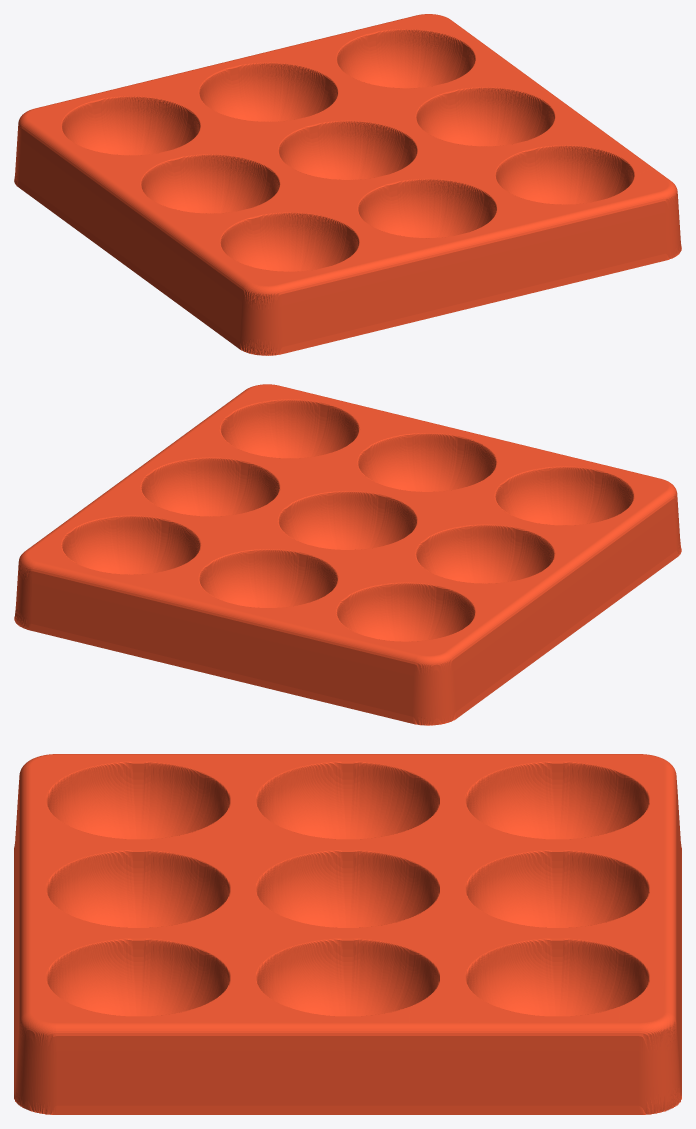
Rendered from mold.glb.
3 renders of one model, top to bottom at view 1: azimuth 30°, elevation 25°; view 2: azimuth 150°, elevation 25°; view 3: azimuth 270°, elevation 25°, orthographic. The views are drawn at different scales.
Parts seen in each view (by area): view 1: geometry_0; view 2: geometry_0; view 3: geometry_0.
Part boxes in pixels (x1,y1,x2,y2): geometry_0: (14, 14, 681, 355); geometry_0: (14, 384, 681, 725); geometry_0: (14, 754, 681, 1114).
Bounding box in the file's own units: 0.1409 × 0.0197 × 0.1409.
